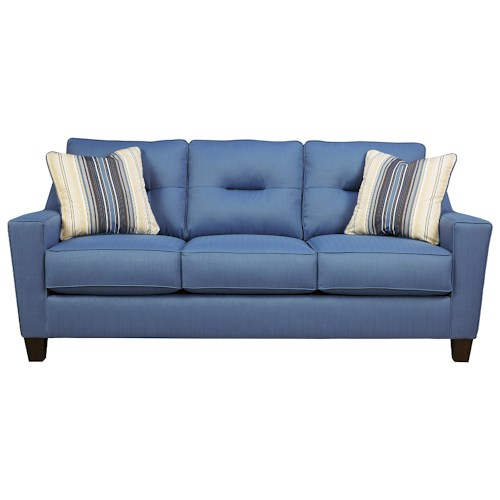chairs: (8, 136, 494, 367)
